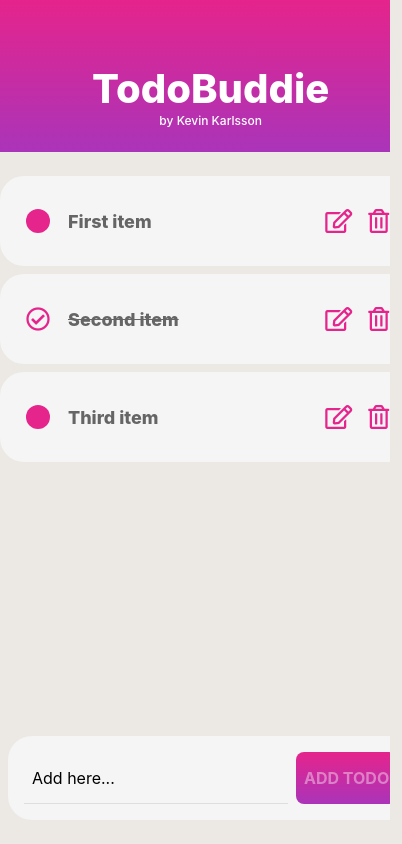
it: TodoItem › should remove First item
The image size is (402, 844).
Click the element with test id "remove-button" in the row of "First item" at (379, 221), box [368, 209, 389, 233]
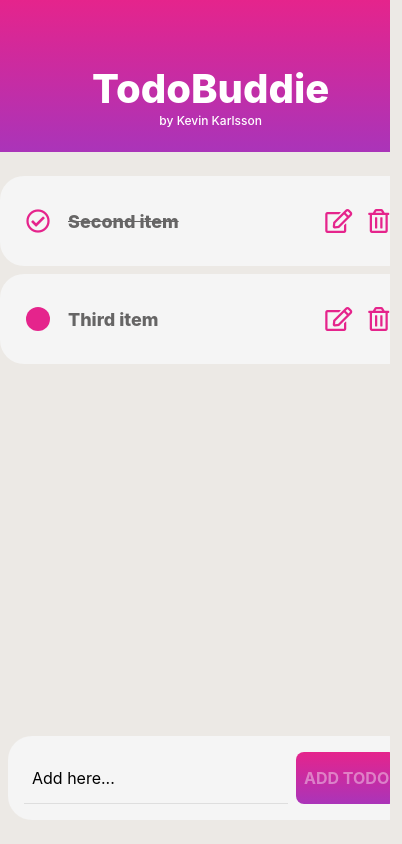
Result: the text "First item" is gone
